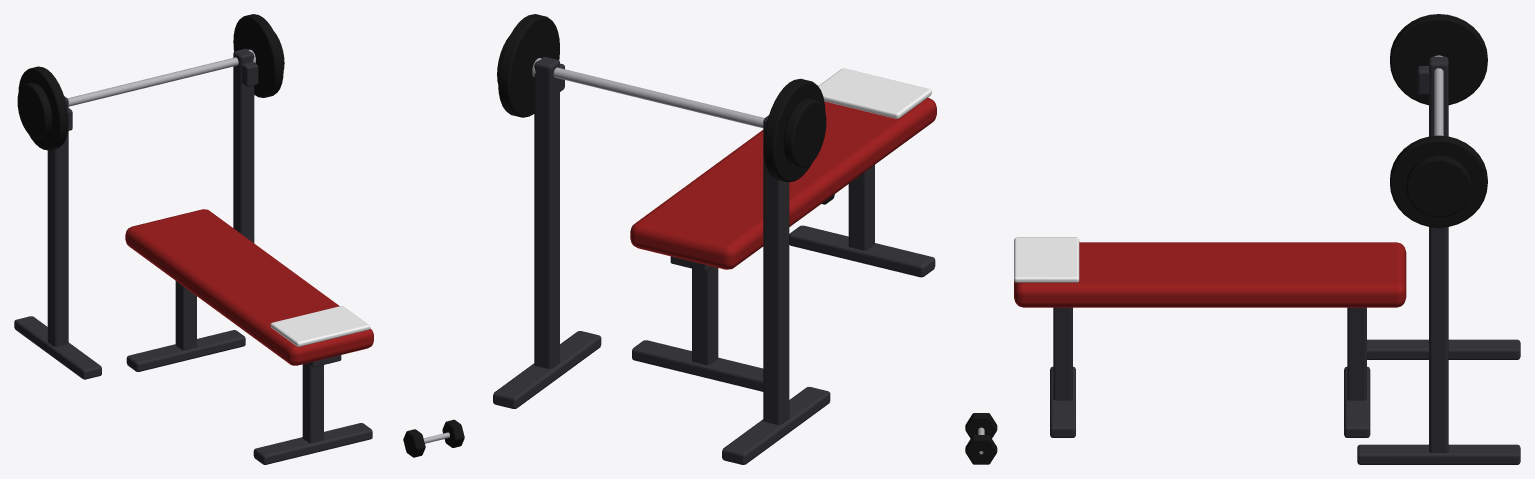
The model's file is weight_bench.glb.
3 views of the same model, side by side, from view 1: azimuth 30°, elevation 25°; view 2: azimuth 150°, elevation 25°; view 3: azimuth 270°, elevation 25° (orthographic). The views are drawn at different scales.
Visible parts, largest first — view 1: Cube, Cube.006, Cube.009, Cylinder.004, Cube.012, Cube.003, Cube.005, Cylinder.001, Cube.007, Cube.004, Cylinder, Cylinder.002 (+3 smaller); view 2: Cube, Cube.009, Cube.006, Cylinder.004, Cube.012, Cube.005, Cube.003, Cylinder.001, Cube.007, Cube.010, Cube.002, Cylinder (+2 smaller); view 3: Cube, Cylinder.001, Cube.009, Cylinder.004, Cube.010, Cylinder.005, Cube.012, Cube.007, Cube.002, Cube.004, Cube.003, Cube.005 (+4 smaller).
Part boxes in pixels (x1,y1,x2,y2): Cube: [125, 209, 373, 365]; Cube.006: [47, 96, 68, 346]; Cube.009: [233, 48, 254, 242]; Cylinder.004: [233, 14, 283, 97]; Cube.012: [270, 306, 370, 346]; Cube.003: [126, 330, 245, 371]; Cube.005: [253, 423, 372, 464]; Cylinder.001: [18, 66, 68, 150]; Cube.007: [14, 316, 101, 379]; Cube.004: [302, 363, 323, 443]; Cylinder: [67, 57, 238, 106]; Cylinder.002: [17, 82, 52, 138]; Cube: [630, 97, 936, 269]; Cube.009: [534, 57, 559, 368]; Cube.006: [763, 115, 789, 424]; Cylinder.004: [498, 14, 559, 117]; Cube.012: [818, 68, 931, 118]; Cube.005: [789, 225, 935, 277]; Cube.003: [632, 340, 763, 391]; Cylinder.001: [763, 78, 825, 182]; Cube.007: [722, 386, 830, 464]; Cube.010: [493, 331, 601, 408]; Cube.002: [692, 266, 718, 365]; Cylinder: [553, 67, 764, 128]; Cube: [1014, 242, 1406, 307]; Cylinder.001: [1390, 14, 1487, 105]; Cube.009: [1429, 227, 1448, 452]; Cylinder.004: [1390, 135, 1487, 227]; Cube.010: [1357, 444, 1520, 464]; Cylinder.005: [1406, 155, 1471, 217]; Cube.012: [1014, 237, 1079, 282]; Cube.007: [1367, 339, 1520, 359]; Cube.002: [1347, 307, 1366, 400]; Cube.004: [1053, 307, 1072, 400]; Cube.003: [1344, 366, 1370, 437]; Cube.005: [1050, 366, 1075, 437].
Size of the model in its own units: 0.985 by 1.12 by 1.7.
